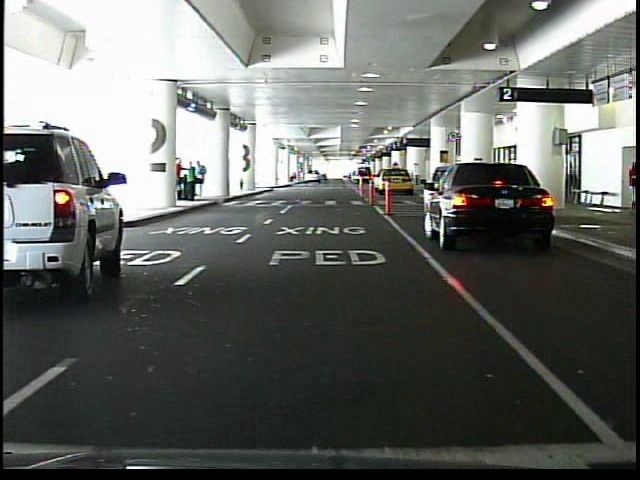person: (625, 162, 637, 216), (184, 160, 197, 202), (196, 160, 208, 199)
